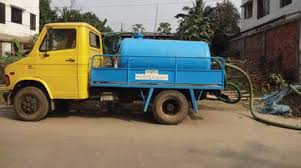truck: (2, 22, 224, 126)
